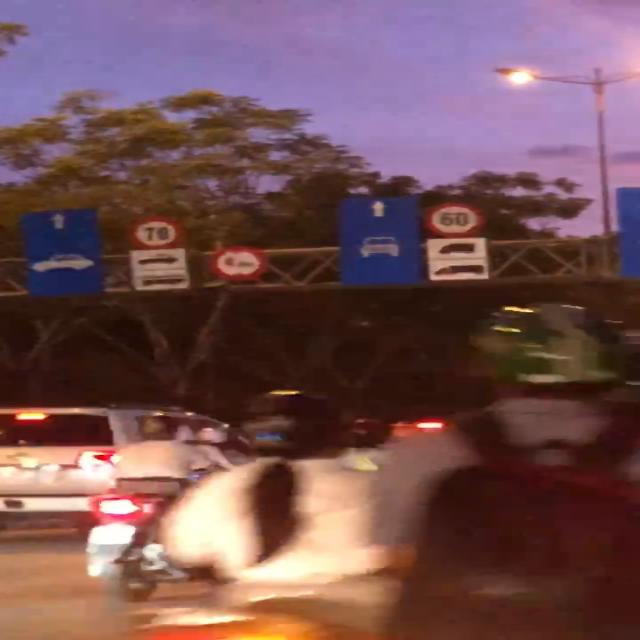Bien bao toc do toi da cho phep: (124, 213, 186, 251), (424, 199, 485, 237)
